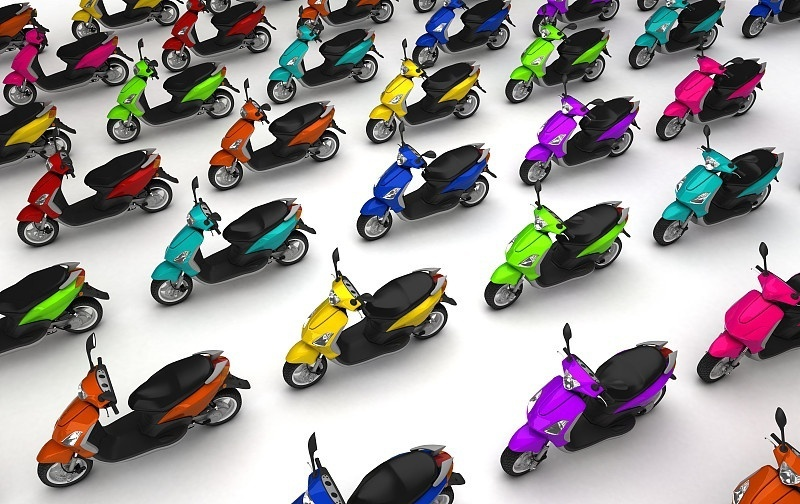non-vehicle: (32, 344, 253, 475), (278, 255, 463, 387), (505, 339, 686, 467), (158, 185, 312, 303), (12, 140, 181, 246), (355, 133, 496, 243), (492, 191, 627, 302), (659, 129, 784, 247), (698, 242, 798, 384), (262, 433, 468, 501), (3, 249, 104, 368), (98, 55, 235, 139), (217, 93, 333, 187), (519, 92, 641, 181), (656, 52, 768, 137), (703, 408, 800, 504), (270, 18, 379, 101), (370, 57, 480, 135), (506, 17, 610, 98), (17, 19, 106, 104), (1, 87, 72, 189), (163, 1, 271, 63), (631, 0, 728, 65), (419, 0, 514, 63), (78, 0, 179, 34), (304, 0, 391, 29), (536, 0, 618, 29), (1, 0, 36, 67), (741, 1, 800, 36)
